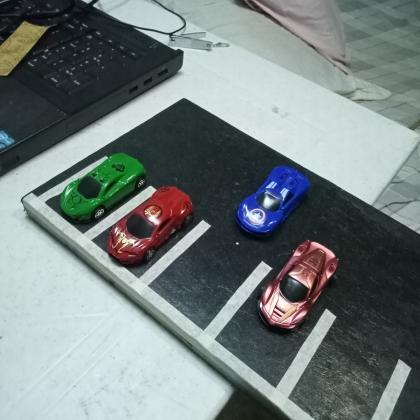Car: (254, 238, 342, 332), (106, 183, 196, 264), (59, 151, 149, 223), (234, 163, 313, 238)
